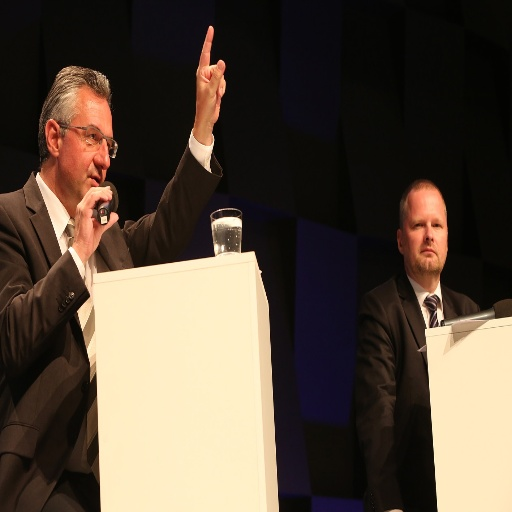hand: (71, 184, 119, 261), (191, 26, 225, 121)
